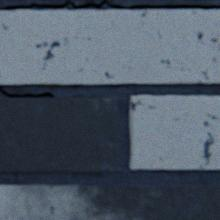brick: (0, 10, 219, 84), (0, 97, 116, 172), (0, 184, 219, 219), (128, 95, 219, 169)
crack: (0, 0, 219, 11), (0, 85, 53, 98)
